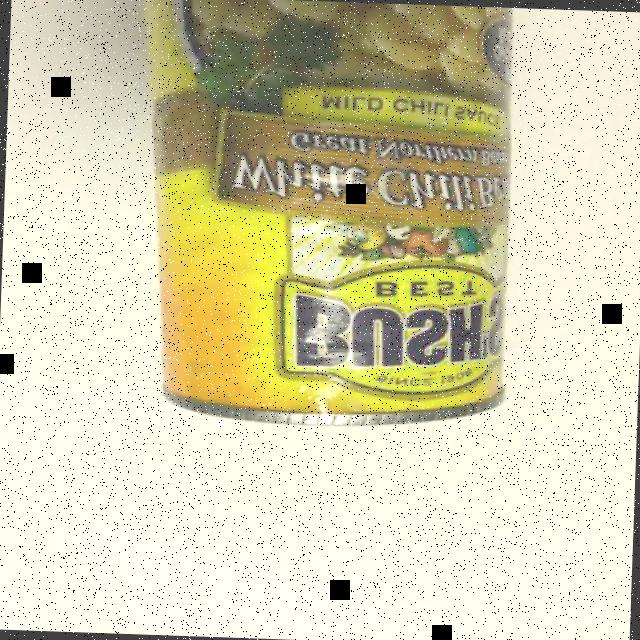can: (120, 0, 525, 435)
